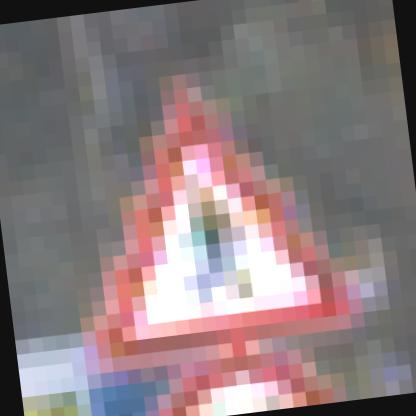crosswalk: (82, 77, 370, 371)
